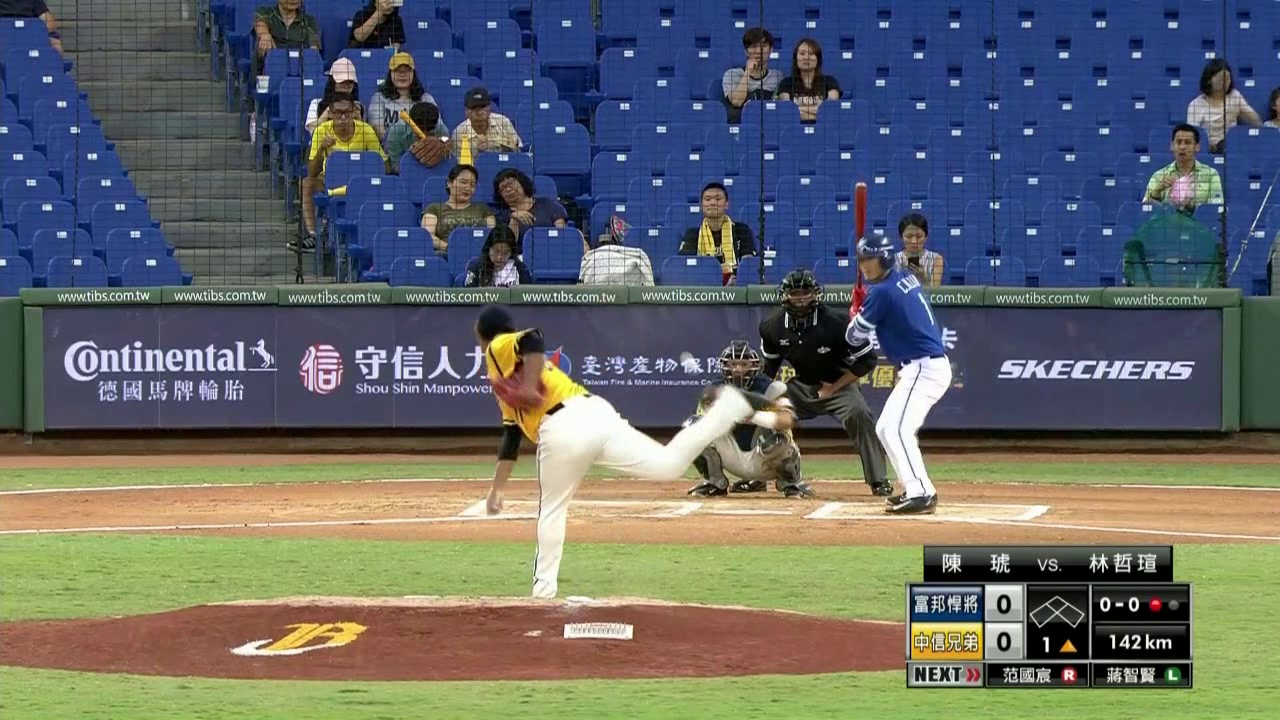ball: (685, 358, 698, 373)
bat: (850, 184, 871, 288)
out: (1145, 592, 1183, 614)
score1: (990, 591, 1018, 618)
score2: (987, 628, 1024, 661)
session: (1027, 591, 1086, 629), (1031, 630, 1085, 658)
speed: (1096, 624, 1189, 657)
strikeball: (1095, 587, 1140, 617)
